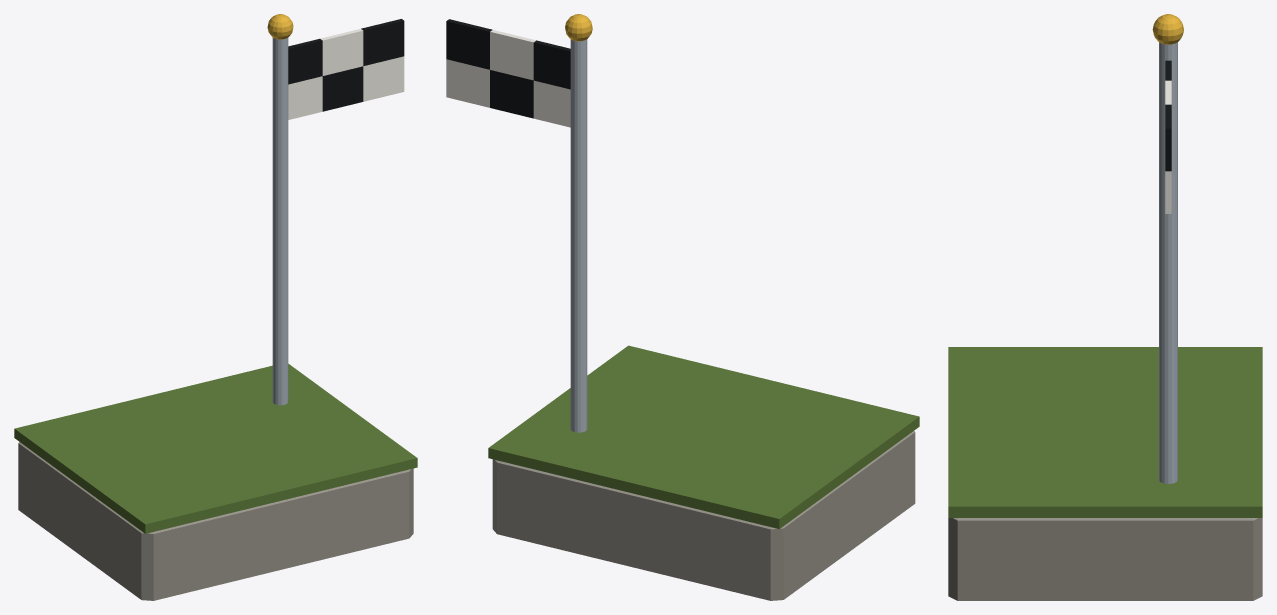
Rendered from finish-flag-lod0.glb.
The picture shows the model from 3 angles, left to right: view 1: azimuth 30°, elevation 25°; view 2: azimuth 150°, elevation 25°; view 3: azimuth 270°, elevation 25°; orthographic projection. The views are drawn at different scales.
Parts seen in each view (by area): view 1: finish-flag; view 2: finish-flag; view 3: finish-flag.
Part boxes in pixels (x1,y1,x2,y2): finish-flag: (14, 14, 417, 600); finish-flag: (446, 14, 919, 600); finish-flag: (948, 14, 1262, 600).
Size of the model in its own units: 1.54 by 1.97 by 1.
